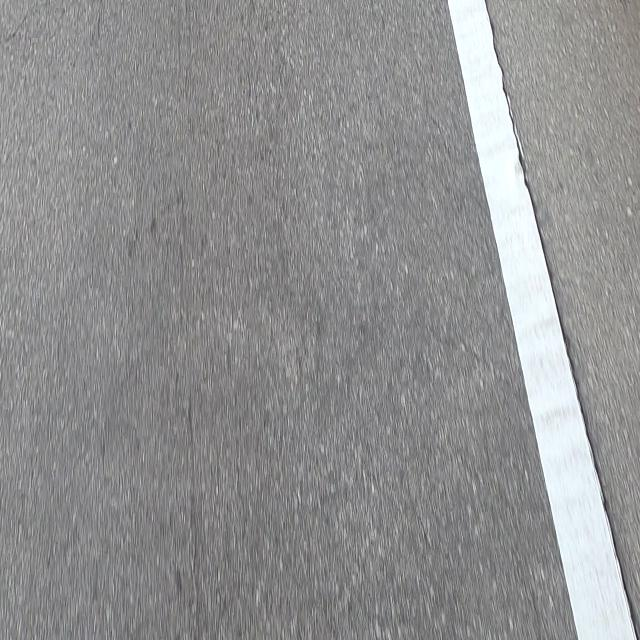Retak-Memanjang: (480, 0, 639, 640)
